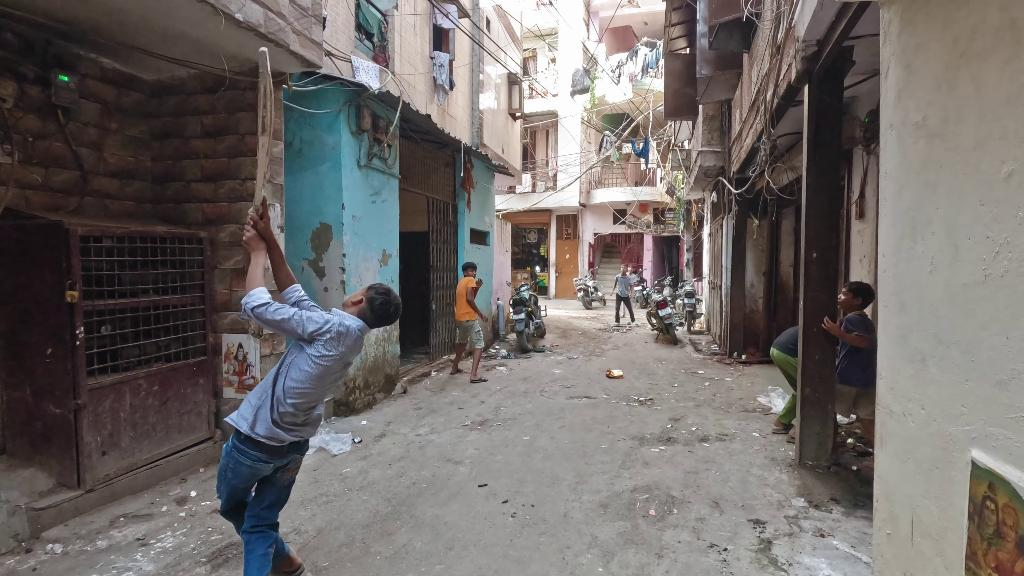garbage: (306, 431, 356, 458), (754, 381, 789, 416), (605, 366, 624, 379)
